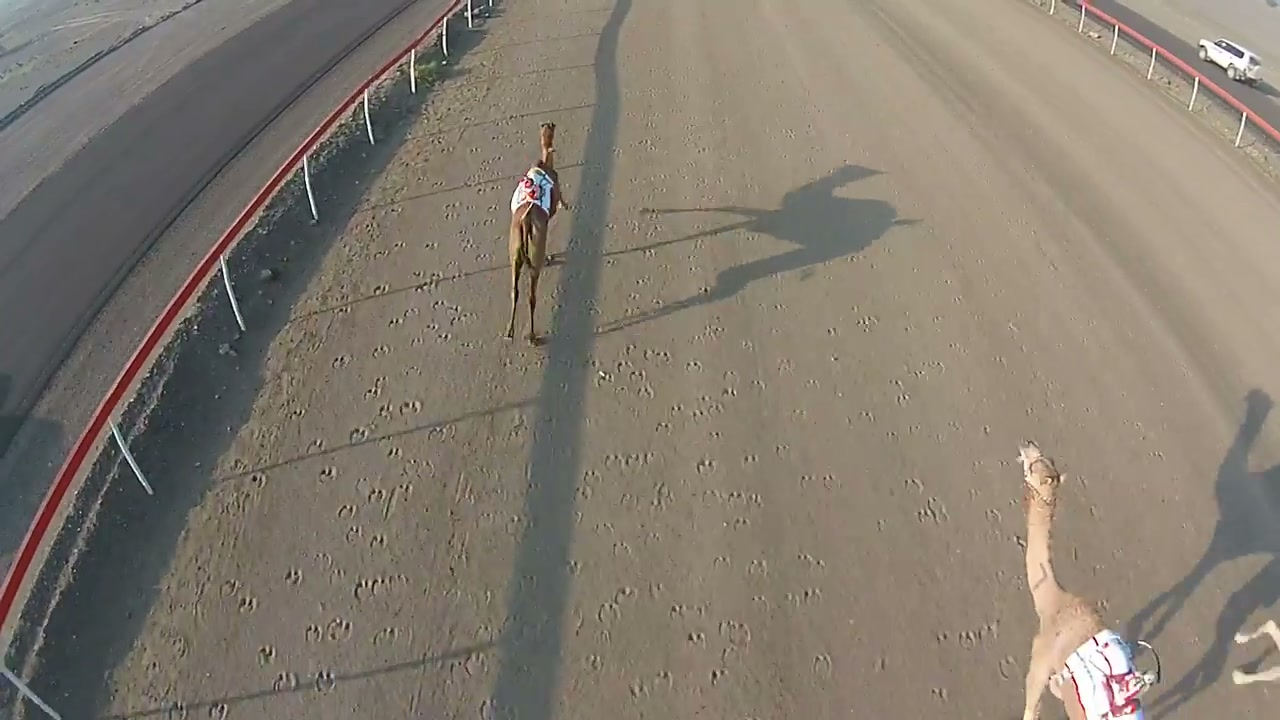animal_foot_print: (238, 133, 489, 711), (562, 189, 802, 680)
